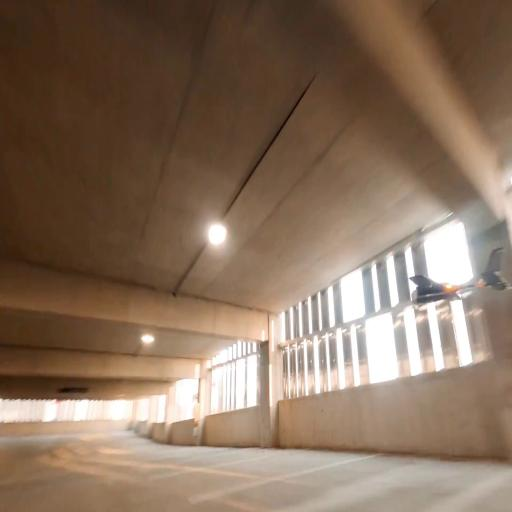uav: (406, 247, 510, 313)
